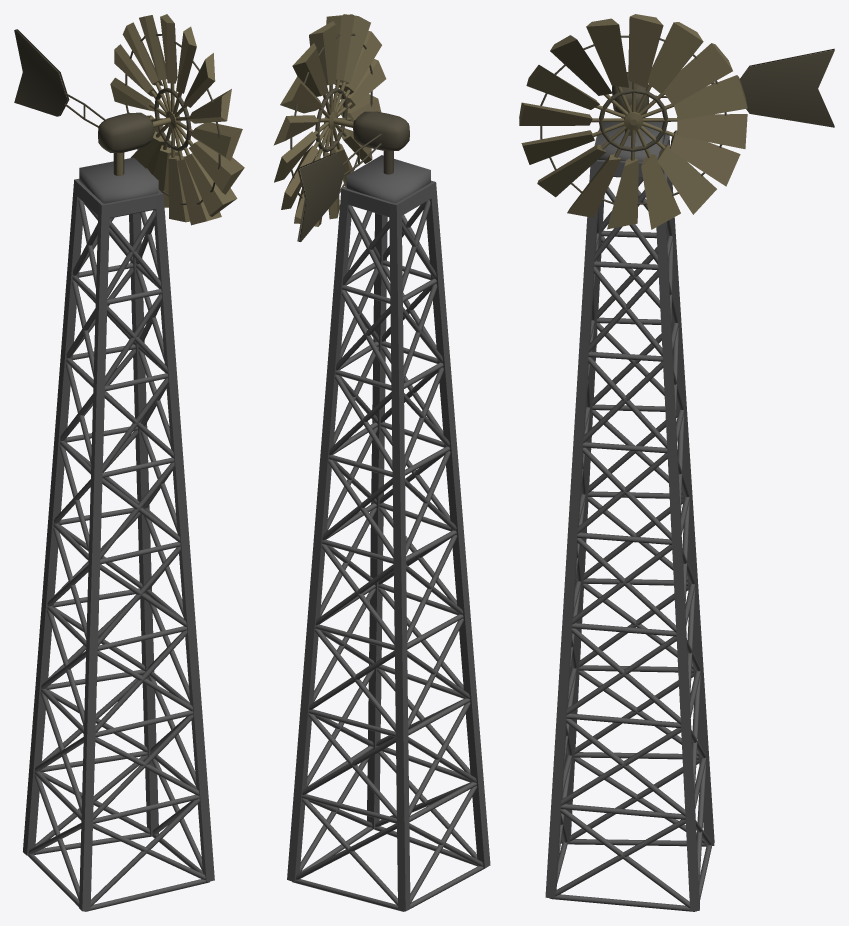
Rendered from Windmill.fbx.
3 views of the same model, side by side, from view 1: azimuth 30°, elevation 25°; view 2: azimuth 150°, elevation 25°; view 3: azimuth 270°, elevation 25° (orthographic). The views are drawn at different scales.
Parts seen in each view (by area): view 1: Legs, Fan, Gearbox; view 2: Legs, Fan, Gearbox; view 3: Legs, Fan, Gearbox.
Part boxes in pixels (x1,y1,x2,y2): Legs: [23, 157, 214, 911]; Fan: [110, 14, 244, 225]; Gearbox: [14, 29, 153, 175]; Legs: [287, 155, 490, 911]; Fan: [273, 14, 386, 226]; Gearbox: [297, 111, 409, 241]; Legs: [545, 122, 714, 911]; Fan: [519, 14, 747, 229]; Gearbox: [612, 48, 834, 135].
Bounding box in the file's own units: 8.49 × 47.09 × 15.13.
